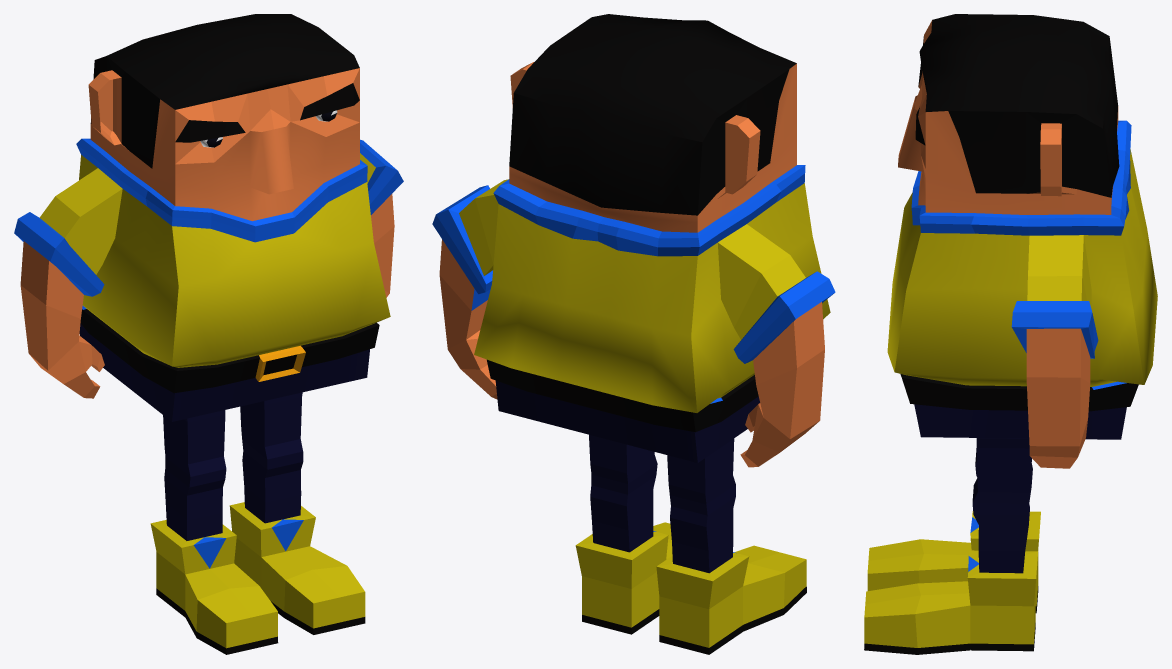
File: man_eos_v4.FBX
3 renders of one model, left to right at view 1: azimuth 30°, elevation 25°; view 2: azimuth 150°, elevation 25°; view 3: azimuth 270°, elevation 25°, orthographic. The views are drawn at different scales.
Visible parts, largest first — view 1: Box006; view 2: Box006; view 3: Box006.
Part boxes in pixels (<box>): Box006: <box>14,14,403,654</box>; Box006: <box>432,14,835,654</box>; Box006: <box>864,14,1157,654</box>.
Size of the model in its own units: 115 by 173 by 79.81.
